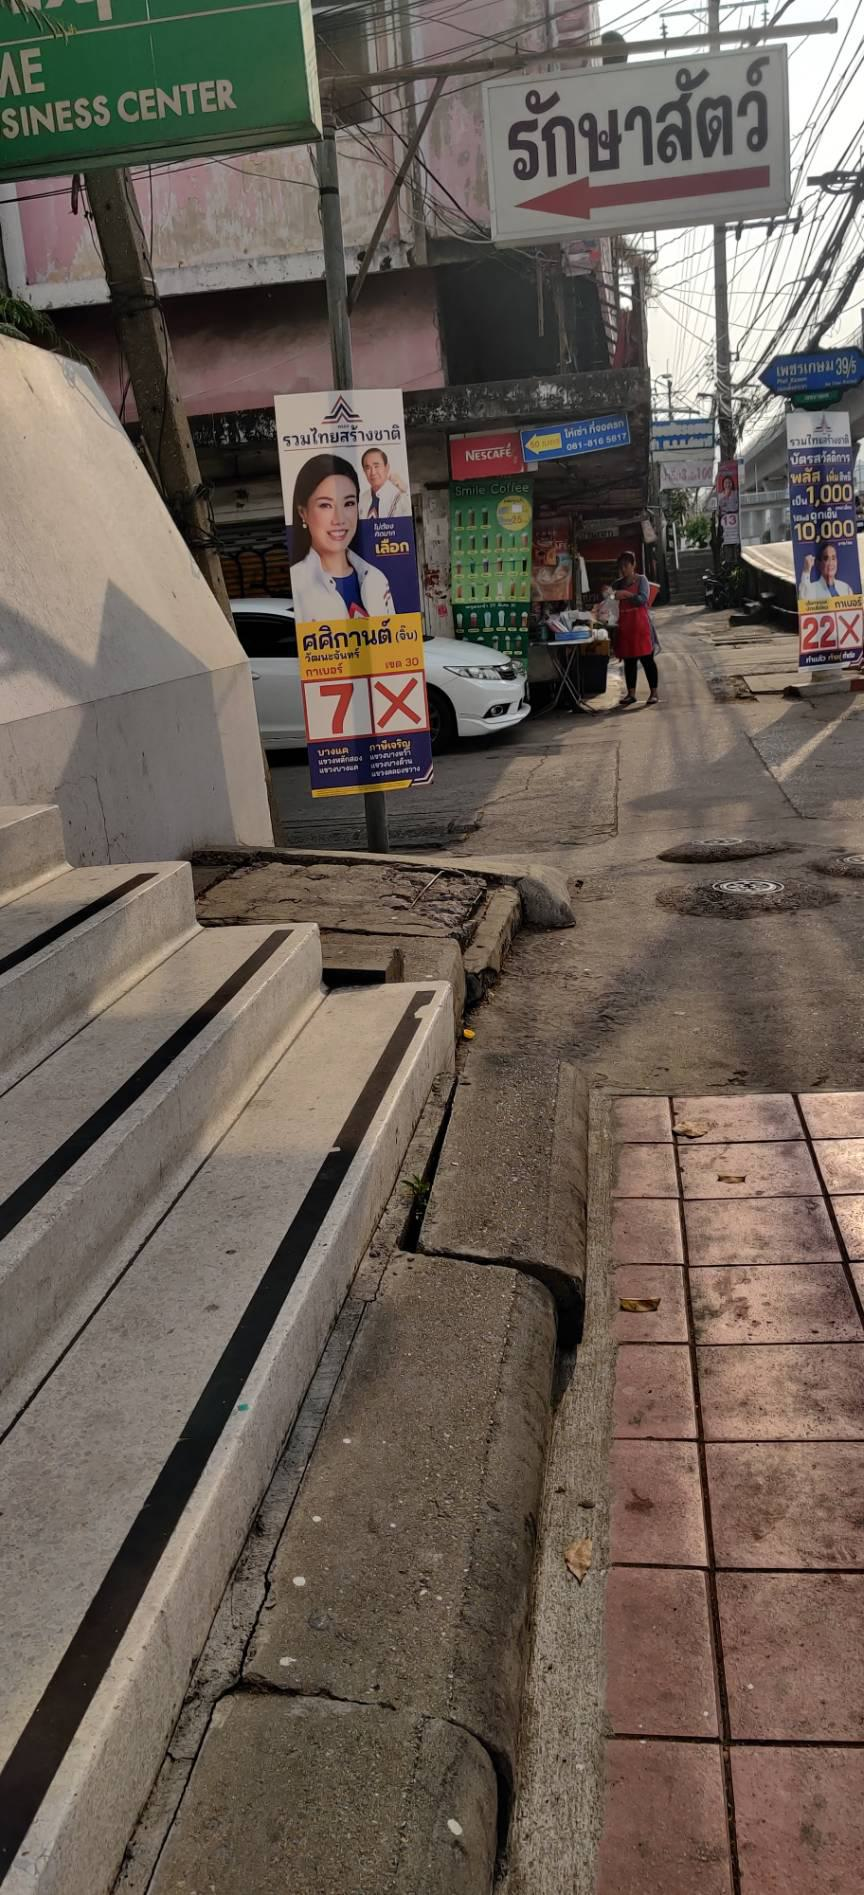Banner: (266, 389, 425, 801), (779, 415, 864, 668)
